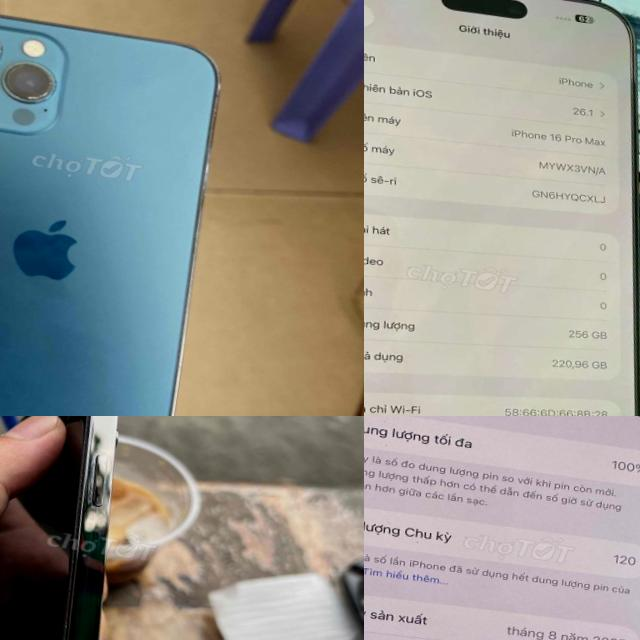gen_12_13: (0, 0, 234, 416), (0, 416, 193, 640)
gen_16: (364, 0, 640, 416)
gen_17: (364, 416, 640, 640)
